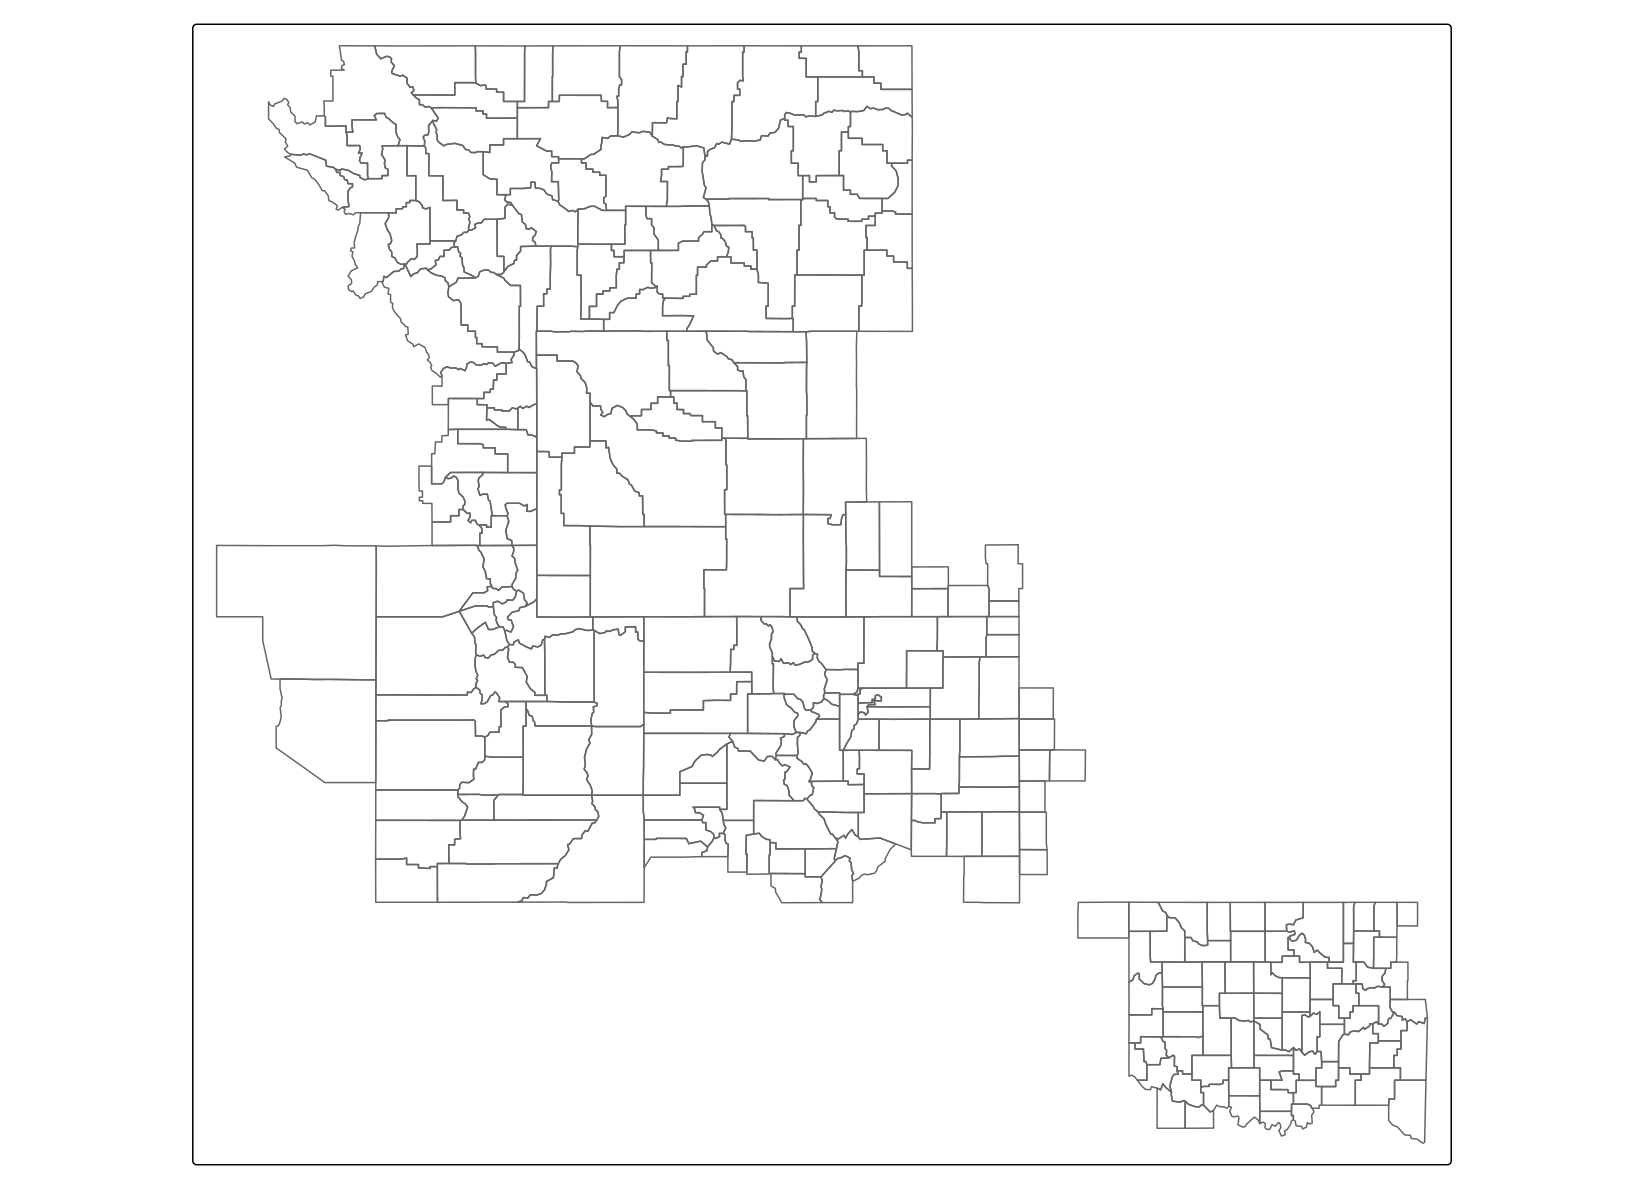

Layout of this report page (visuals, bound fields, positions):
{"tool":"powerbi","page":{"name":"Page 2","canvas":[1280,720],"ordinal":0},"visuals":[{"type":"shapeMap","fields":{"Category":["Table.fips"]},"box":[8,0,448,480],"z":0}]}

Visuals, with their boxes on the page's 1280x720 design canvas (x1, y1, x2, y2). These are canvas units, not pixel positions in the 1644x1189 screenshot, which may show the page scaled, cropped or inside an application window:
shapeMap - Table.fips: (x1=8, y1=0, x2=456, y2=480)
